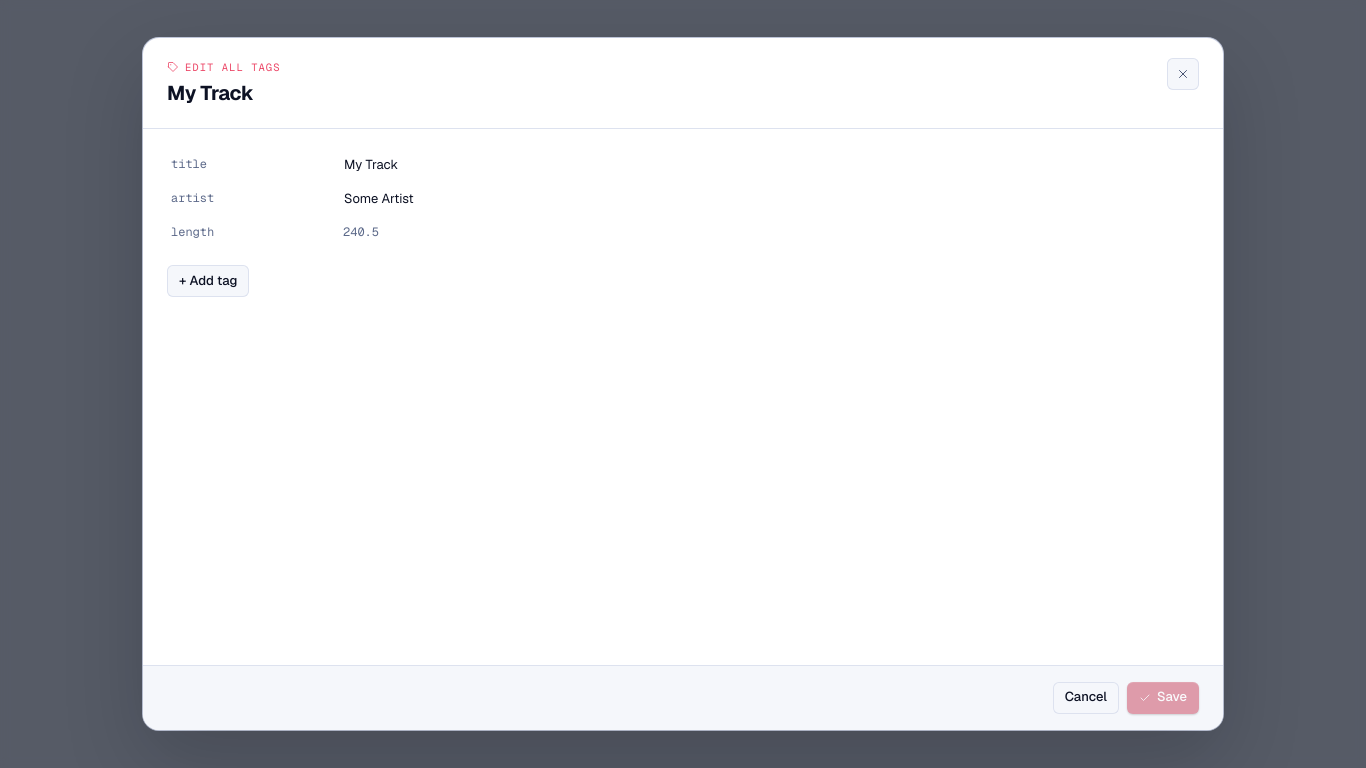
Test case: ItemTagsEditor › Save button enables after editing a field
The image size is (1366, 768).
Replace the text in the field showing "My Track" next to "title" with "New Title" at (753, 165), box [335, 151, 1171, 179]
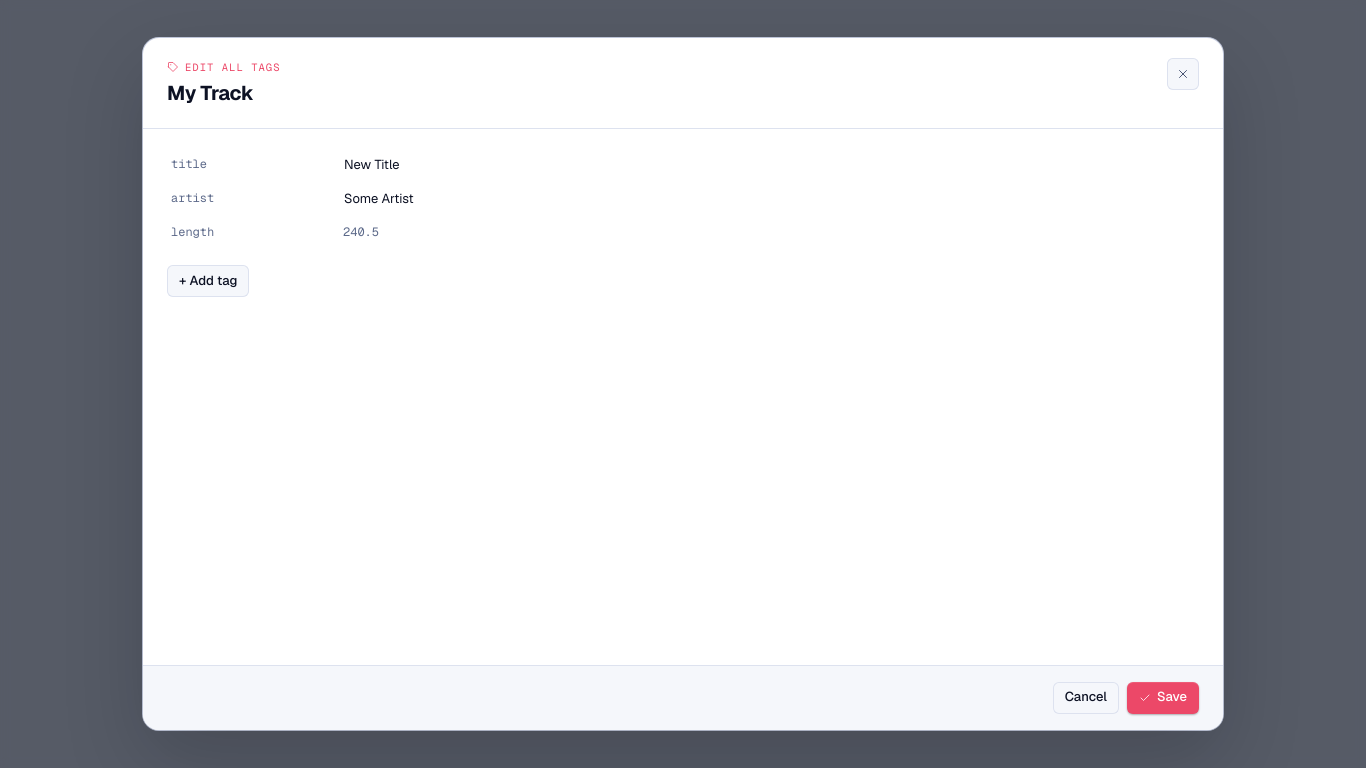
Check: the button "Save" is enabled, box [1127, 682, 1199, 714]
